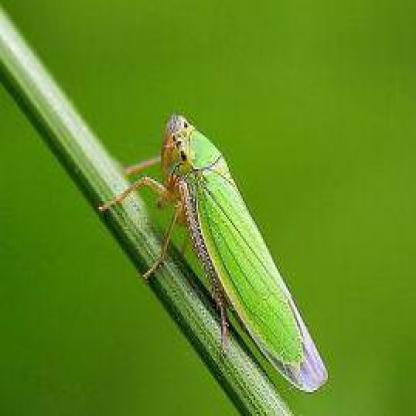Green-Leafhopper: (95, 107, 332, 397)
